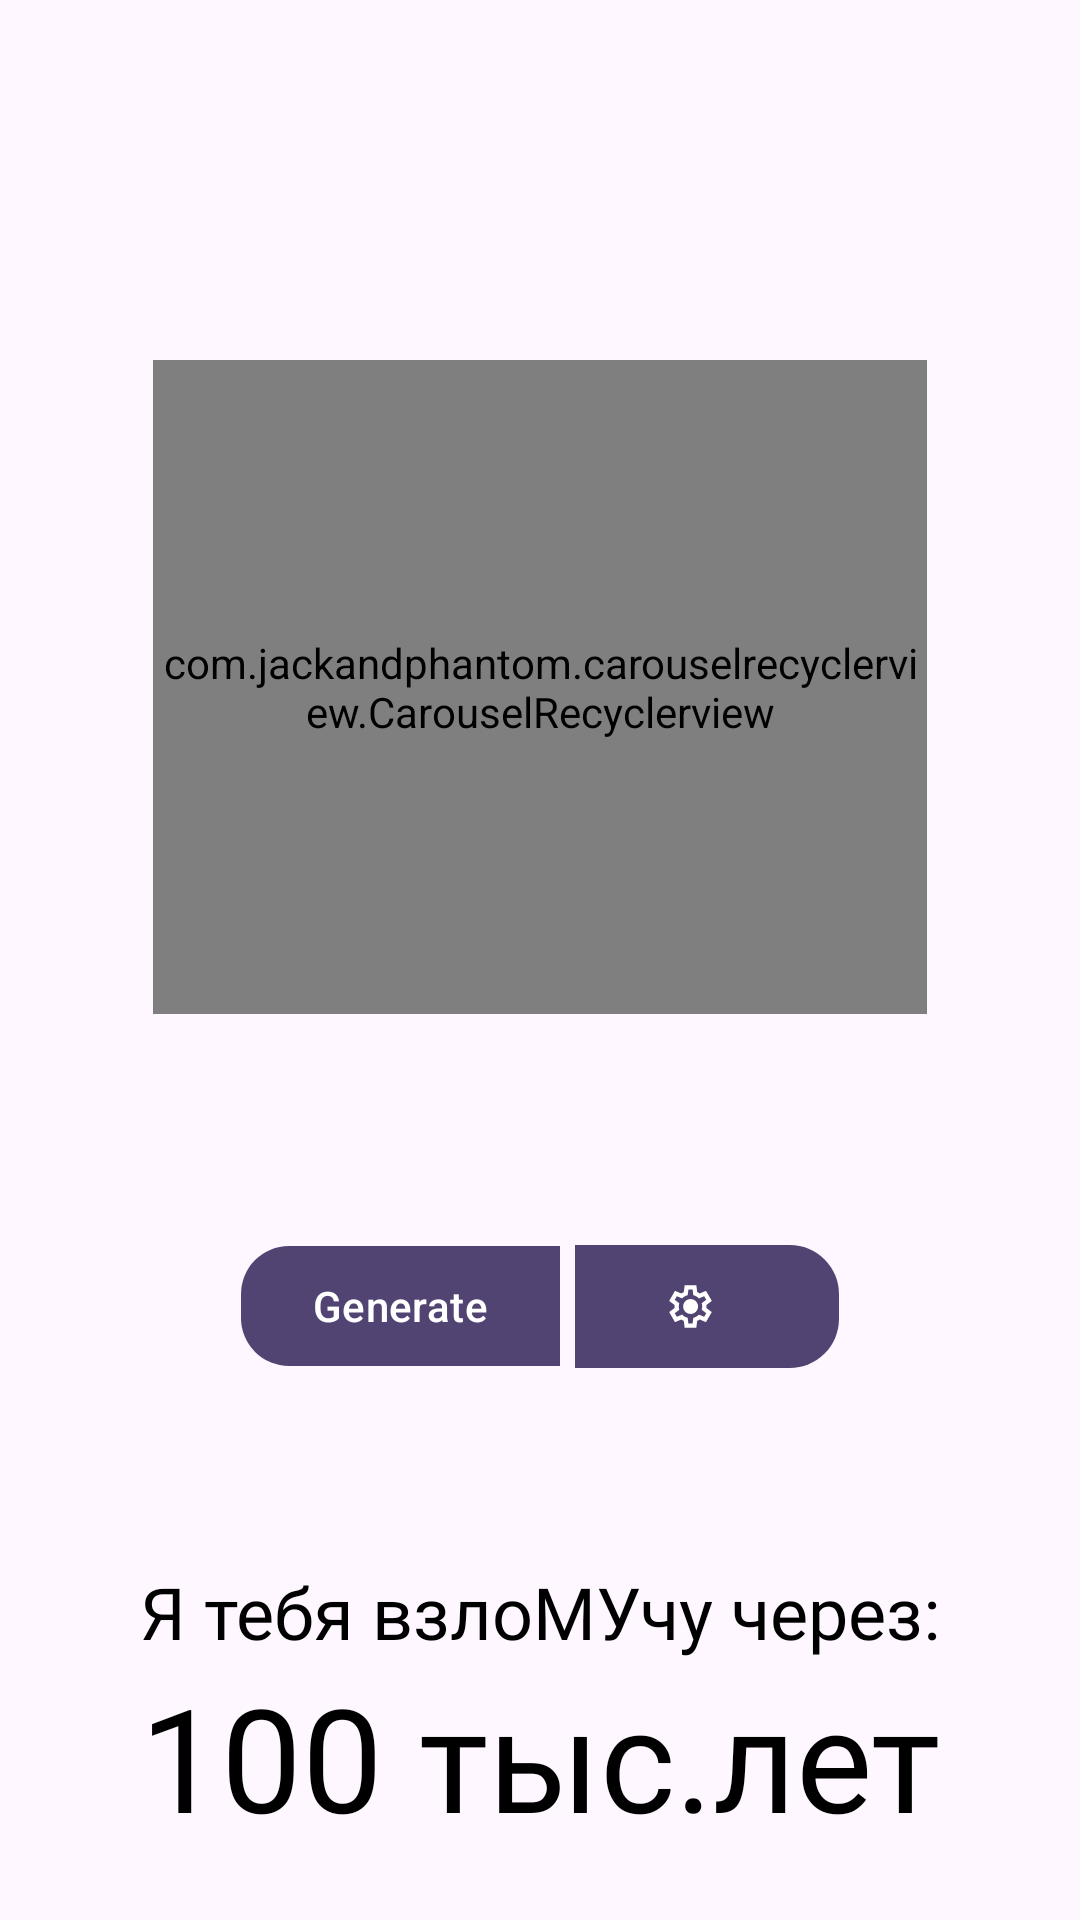

Screen size 1080px x 1920px. Icon name, then its box in pixels as (x1, y1, x2, y2):
setting: (575, 1245, 839, 1368)
